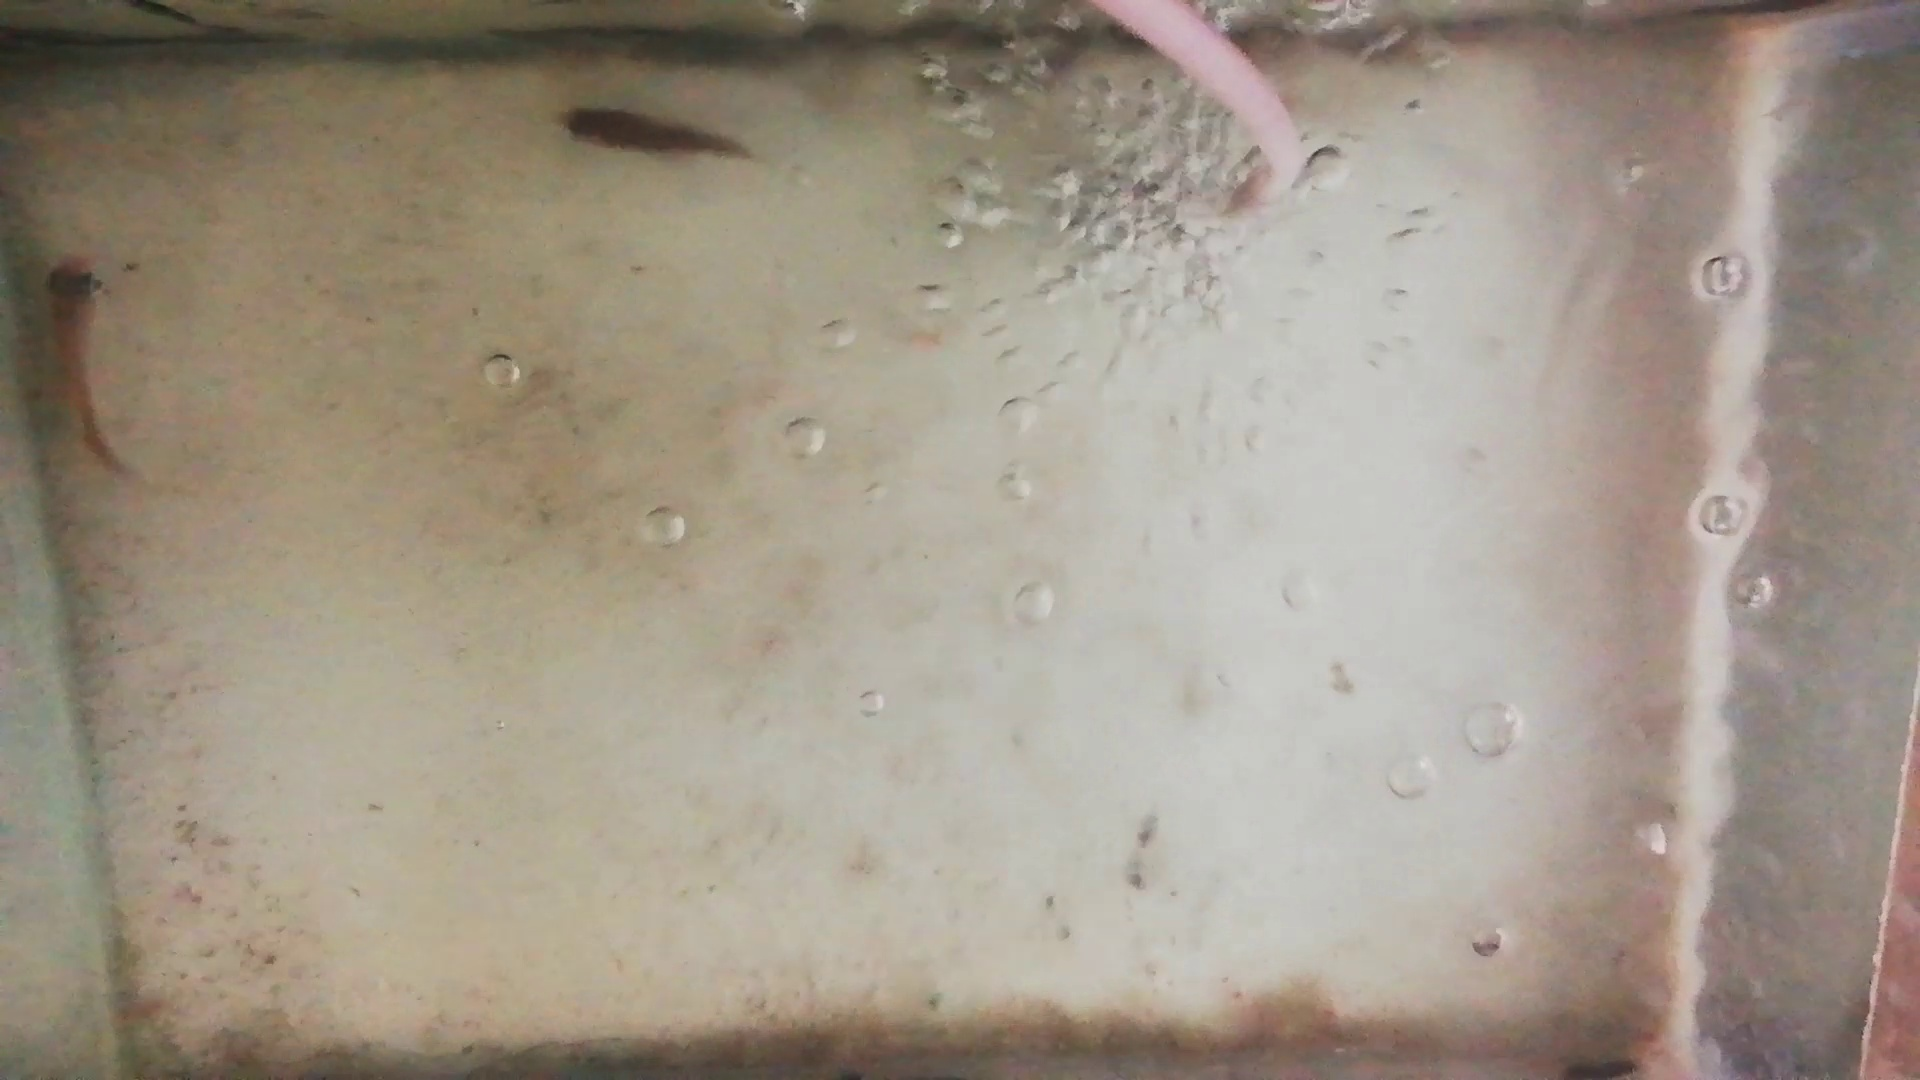fish: (40, 253, 135, 475), (555, 107, 754, 157)
